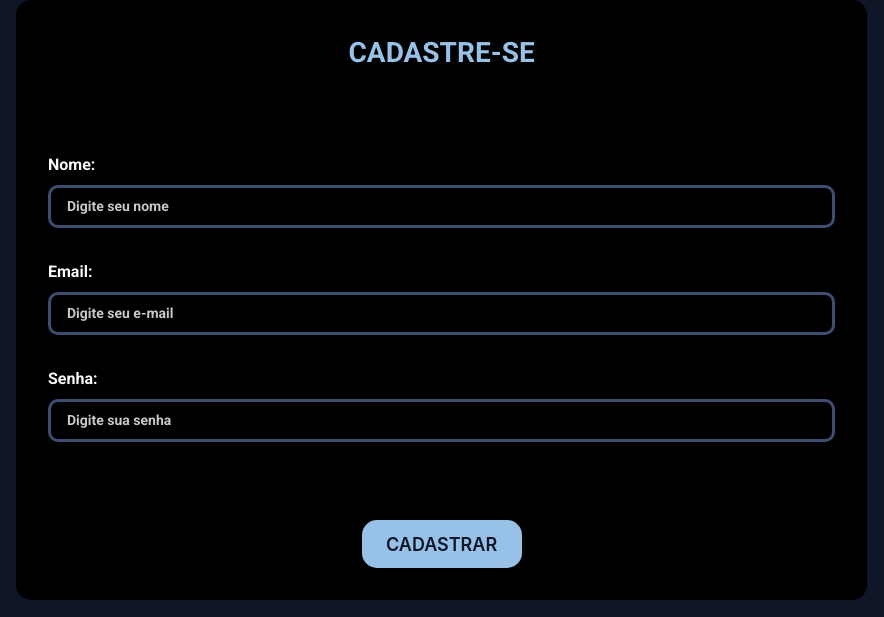
Test: Register Component › should display error message for invalid password
The image size is (884, 617).
Type "Valid Name" into the field labelled "Nome:".
click(442, 206); type("Valid Name")  # box [48,184,835,228]
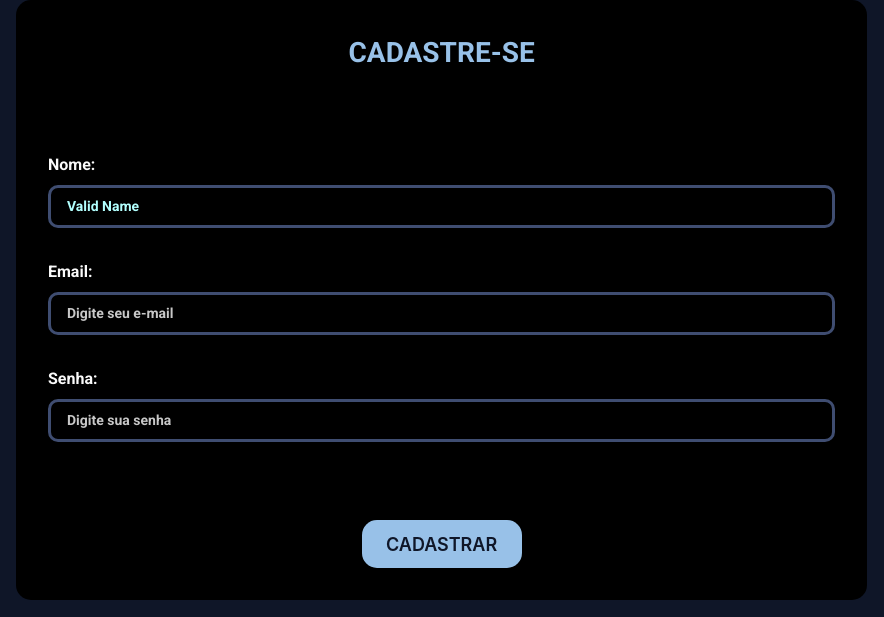
Type "test@example.com" into the field labelled "Email:".
click(442, 313); type("test@example.com")  # box [48,292,835,334]
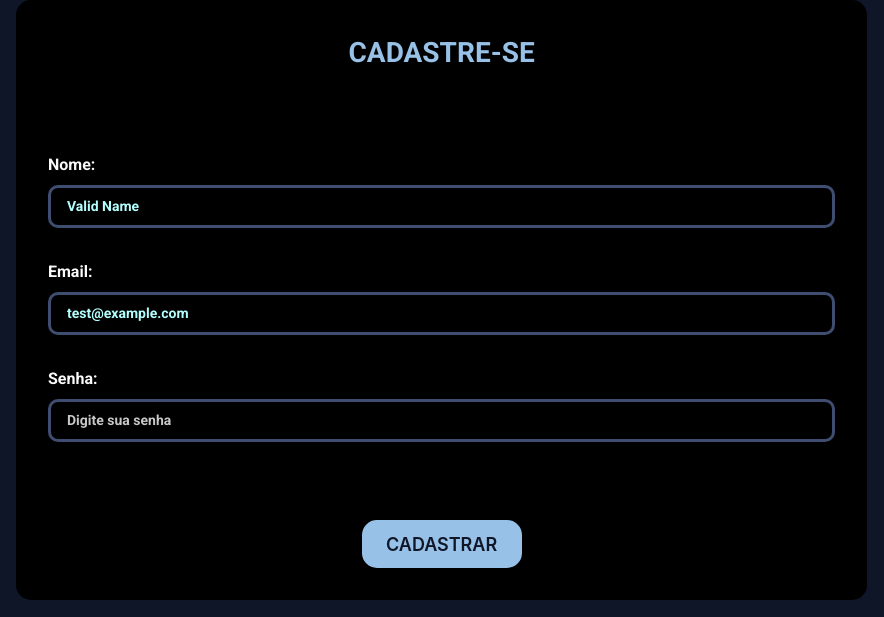
Type "short" into the password field labelled "Senha:".
click(442, 420); type("short")  # box [48,398,835,442]
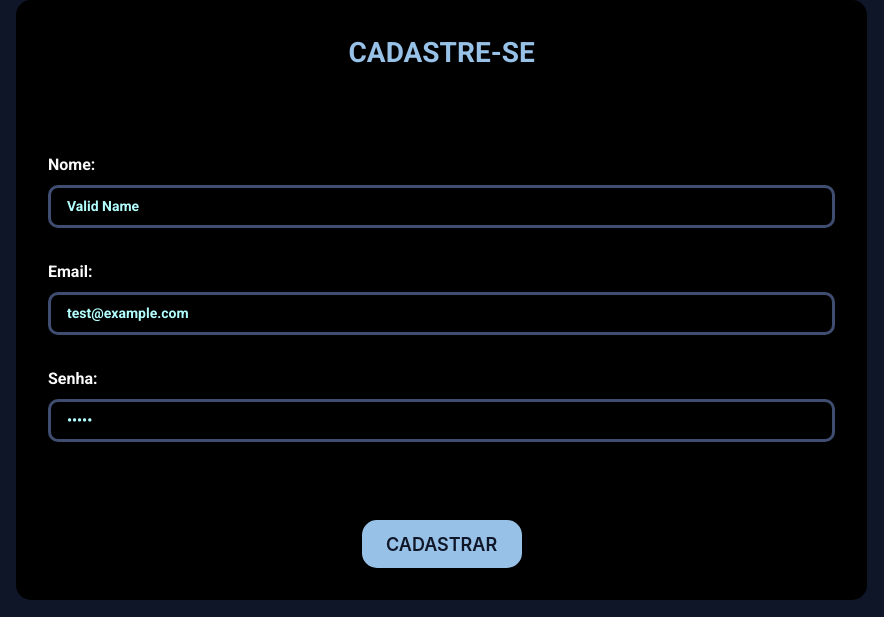
Click the button "CADASTRAR".
click(442, 544)  # box [362,520,522,568]
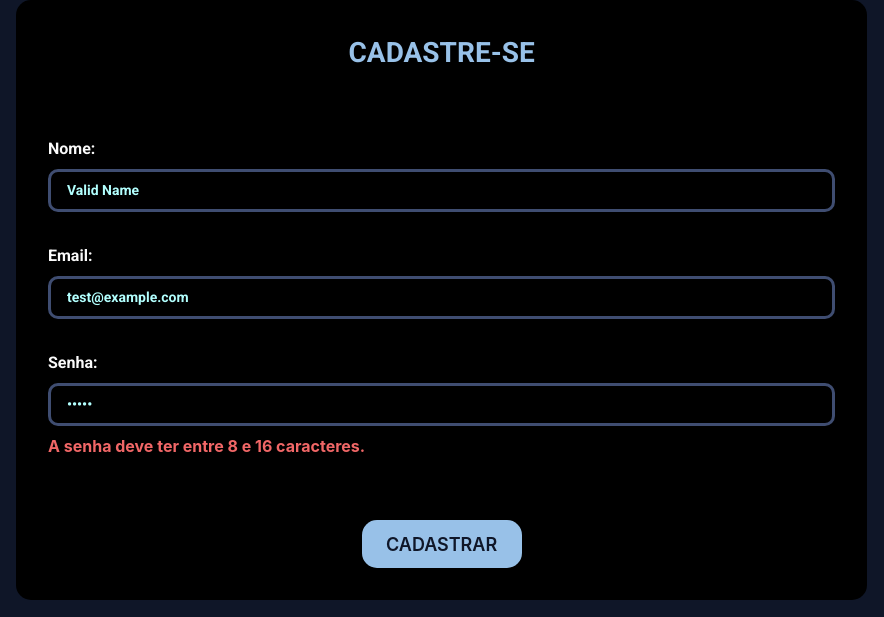
Now the text "A senha deve ter entre 8 e 16 caracteres." is shown, box [48,436,365,456]
